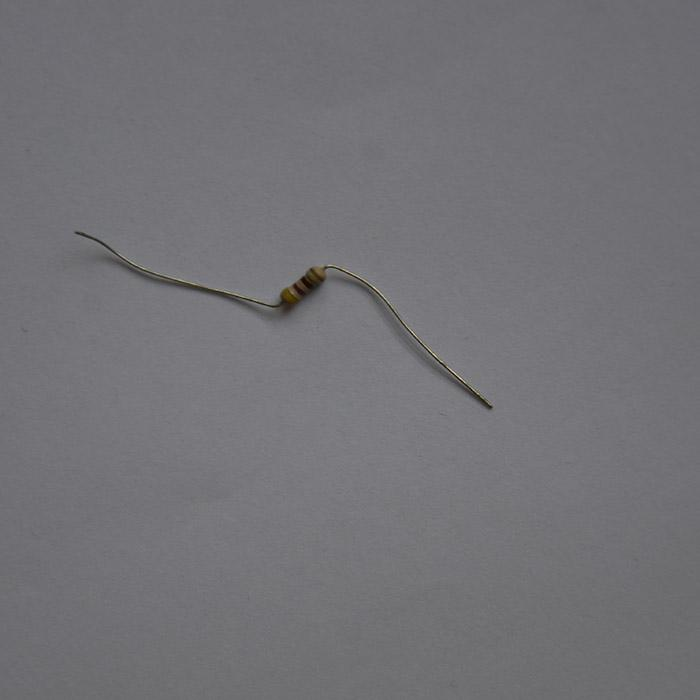resistor: (279, 265, 324, 305)
